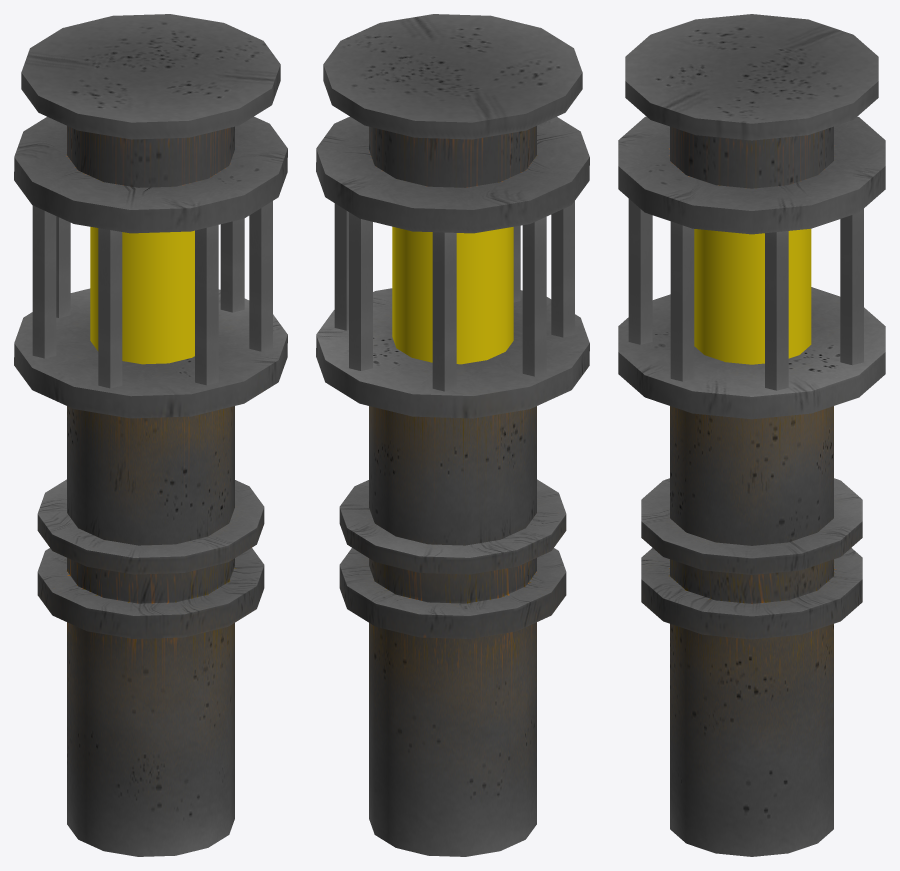
File: Giant Battery.fbx
3 views of the same model, side by side, from view 1: azimuth 30°, elevation 25°; view 2: azimuth 150°, elevation 25°; view 3: azimuth 270°, elevation 25° (orthographic).
Parts seen in each view (by area): view 1: Body, Light, Pillar6, Pillar3, Pillar4, Pillar, Pillar1, Pillar2; view 2: Body, Light, Pillar2, Pillar4, Pillar5, Pillar6, Pillar1, Pillar3; view 3: Body, Light, Pillar, Pillar1, Pillar5, Pillar3.
Boxes of the visible parts, x1=… form: Body: x1=14, y1=14, x2=287, y2=856; Light: x1=90, y1=227, x2=194, y2=364; Pillar6: x1=98, y1=228, x2=122, y2=388; Pillar3: x1=195, y1=225, x2=218, y2=385; Pillar4: x1=32, y1=205, x2=56, y2=358; Pillar: x1=249, y1=201, x2=272, y2=351; Pillar1: x1=220, y1=218, x2=244, y2=312; Pillar2: x1=56, y1=216, x2=70, y2=317; Body: x1=316, y1=14, x2=589, y2=856; Light: x1=392, y1=226, x2=513, y2=364; Pillar2: x1=432, y1=232, x2=456, y2=391; Pillar4: x1=522, y1=216, x2=546, y2=376; Pillar5: x1=349, y1=212, x2=372, y2=370; Pillar6: x1=551, y1=201, x2=574, y2=337; Pillar1: x1=334, y1=203, x2=348, y2=330; Pillar3: x1=513, y1=225, x2=520, y2=302; Body: x1=618, y1=14, x2=885, y2=856; Light: x1=694, y1=228, x2=811, y2=364; Pillar: x1=670, y1=221, x2=694, y2=381; Pillar1: x1=765, y1=231, x2=788, y2=390; Pillar5: x1=840, y1=209, x2=863, y2=365; Pillar3: x1=628, y1=199, x2=652, y2=344.
Size of the model in its own units: 0.2999 by 0.9088 by 0.2925.
Materials: 2 (2 with a texture image).
